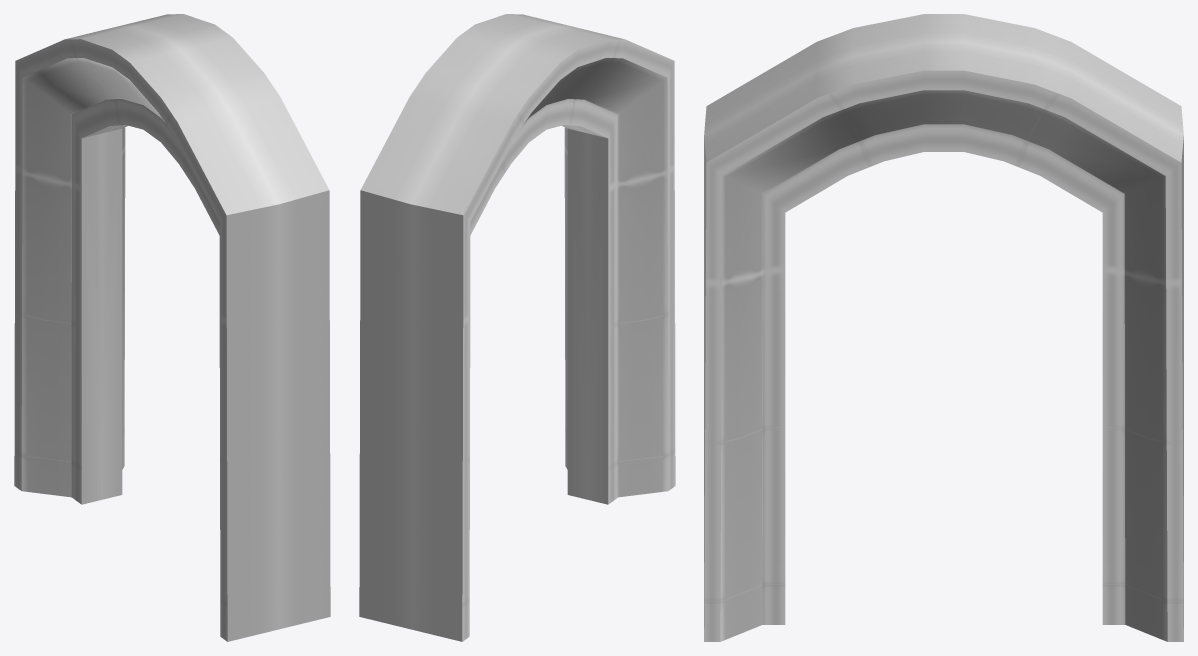
Rendered from Arch_c.fbx.
3 renders of one model, left to right at view 1: azimuth 30°, elevation 25°; view 2: azimuth 150°, elevation 25°; view 3: azimuth 270°, elevation 25°, orthographic. The views are drawn at different scales.
Parts seen in each view (by area): view 1: pCube24; view 2: pCube24; view 3: pCube24.
Part boxes in pixels (x1=…): pCube24: x1=14, y1=14, x2=330, y2=641; pCube24: x1=359, y1=14, x2=675, y2=641; pCube24: x1=704, y1=14, x2=1183, y2=641.
Size of the model in its own units: 1.41 by 6.65 by 5.06.
